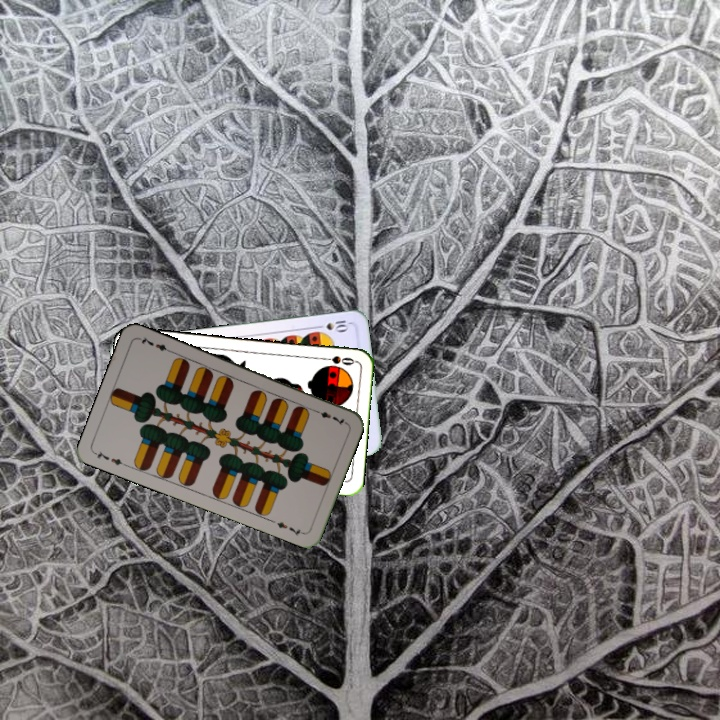E7: (309, 405, 348, 428), (91, 447, 130, 469)
S10: (311, 316, 351, 333)
SO: (317, 352, 358, 368)
